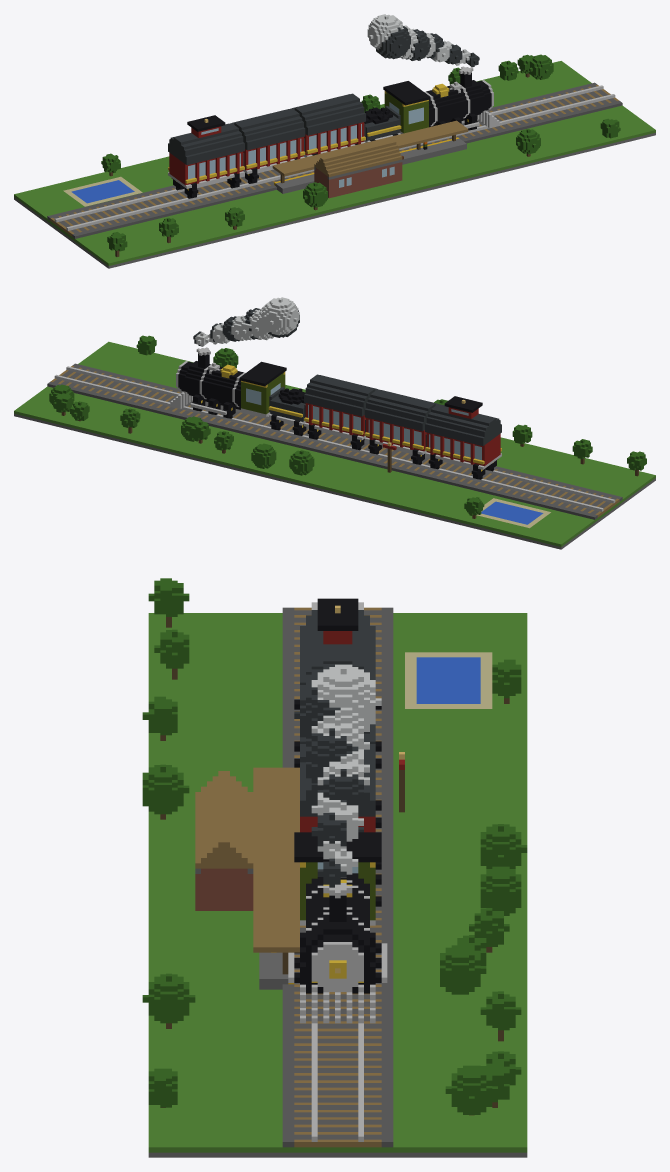
3 renders of one model, top to bottom at view 1: azimuth 30°, elevation 25°; view 2: azimuth 150°, elevation 25°; view 3: azimuth 270°, elevation 25°, orthographic. The views are drawn at different scales.
Size of the model in its own units: 217 by 52 by 66.
